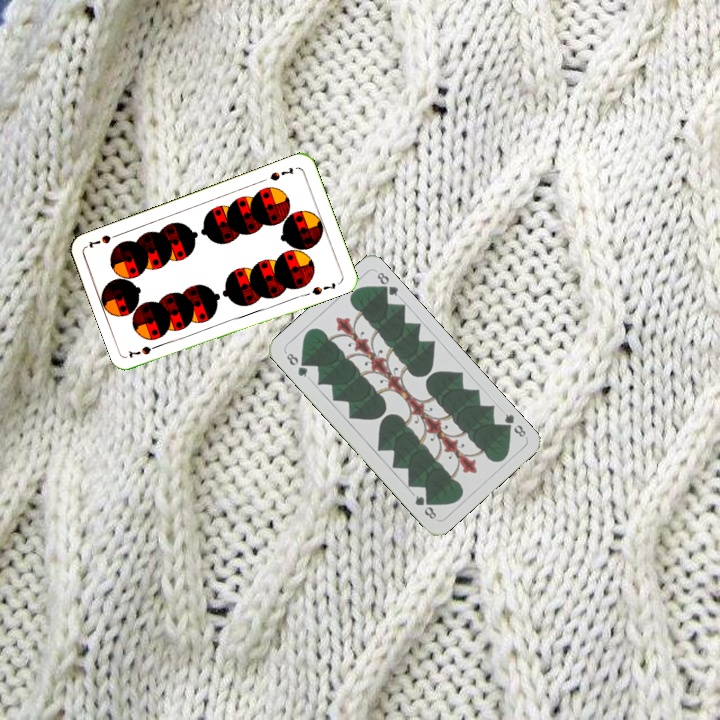G8: (498, 409, 528, 440), (282, 348, 310, 380)
S7: (125, 340, 165, 361), (266, 163, 296, 183)
